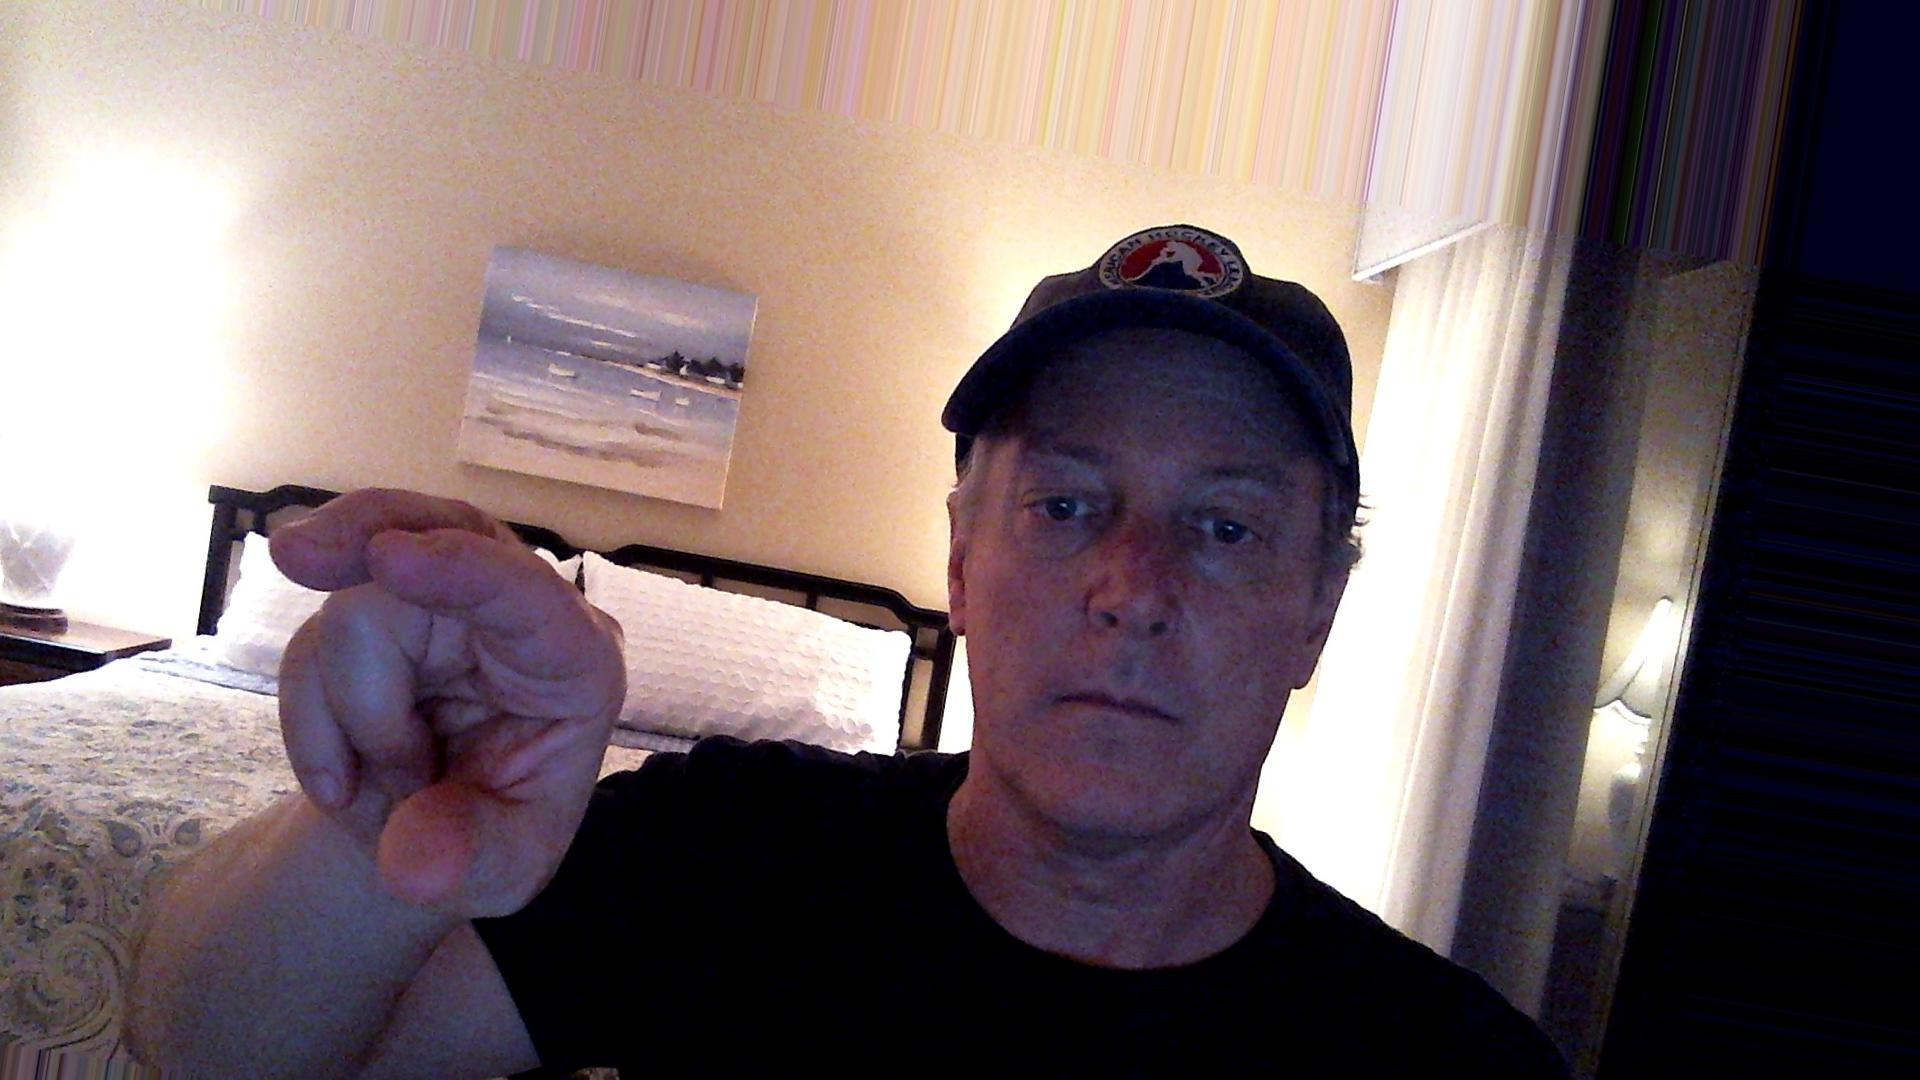No: (253, 455, 642, 948)
